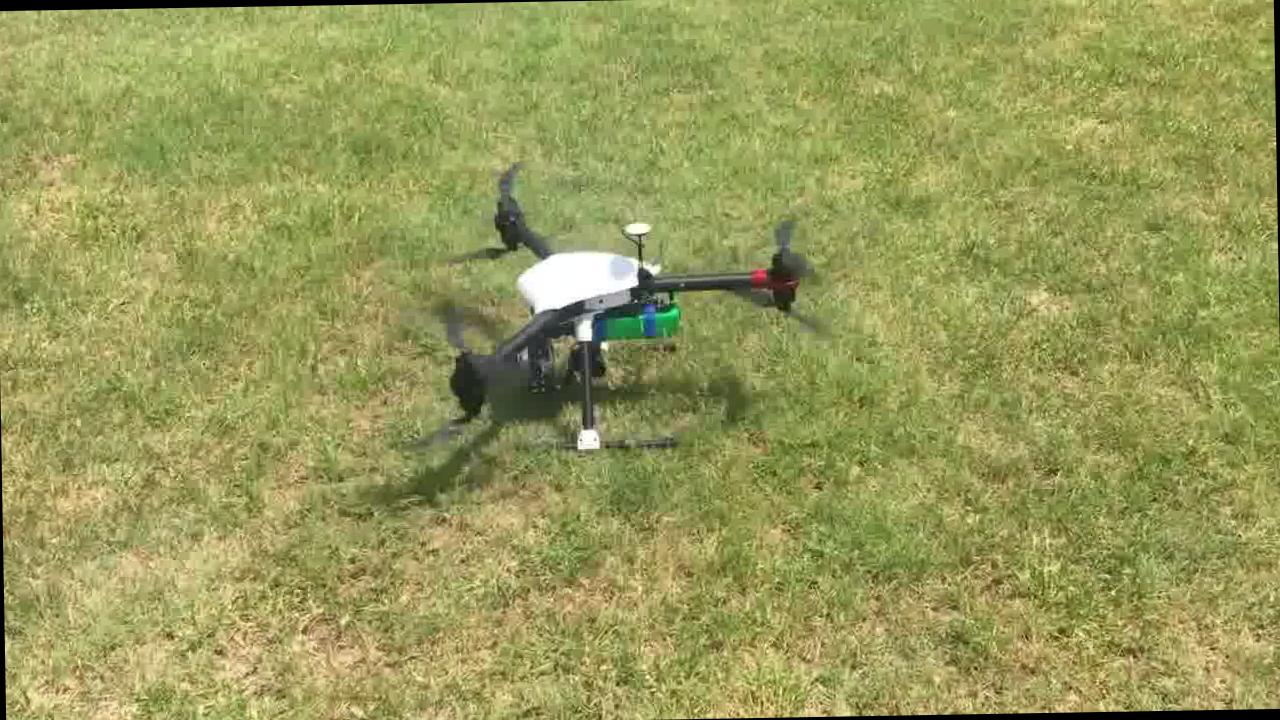drone: (400, 149, 822, 458)
